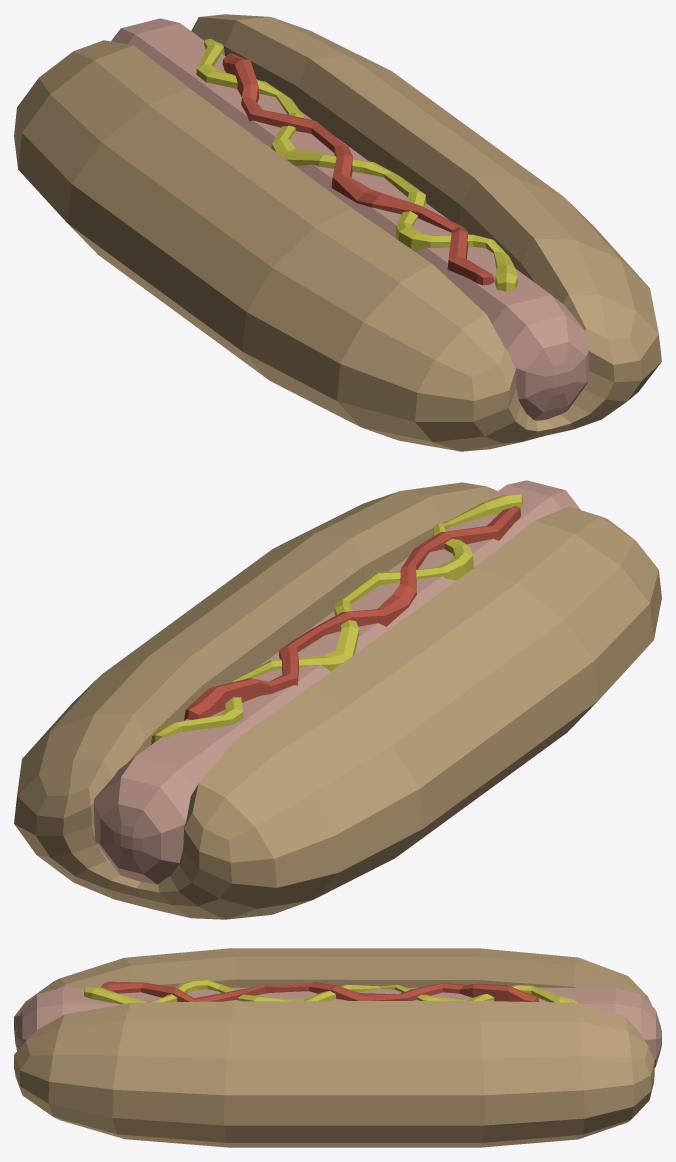
The model's file is Hotdog.glb.
3 renders of one model, top to bottom at view 1: azimuth 30°, elevation 25°; view 2: azimuth 150°, elevation 25°; view 3: azimuth 270°, elevation 25°, orthographic. The views are drawn at different scales.
Parts seen in each view (by area): view 1: Hotdog; view 2: Hotdog; view 3: Hotdog.
Boxes of the visible parts, x1=… form: Hotdog: x1=14, y1=14, x2=661, y2=451; Hotdog: x1=14, y1=480, x2=661, y2=919; Hotdog: x1=14, y1=948, x2=661, y2=1147.
Size of the model in its own units: 0.7852 by 0.4094 by 1.66.
